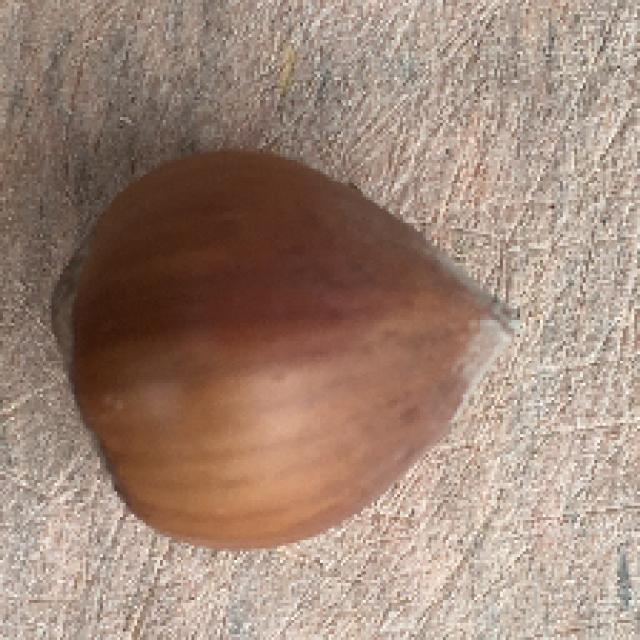qualityHazelnut: (55, 147, 522, 547)
